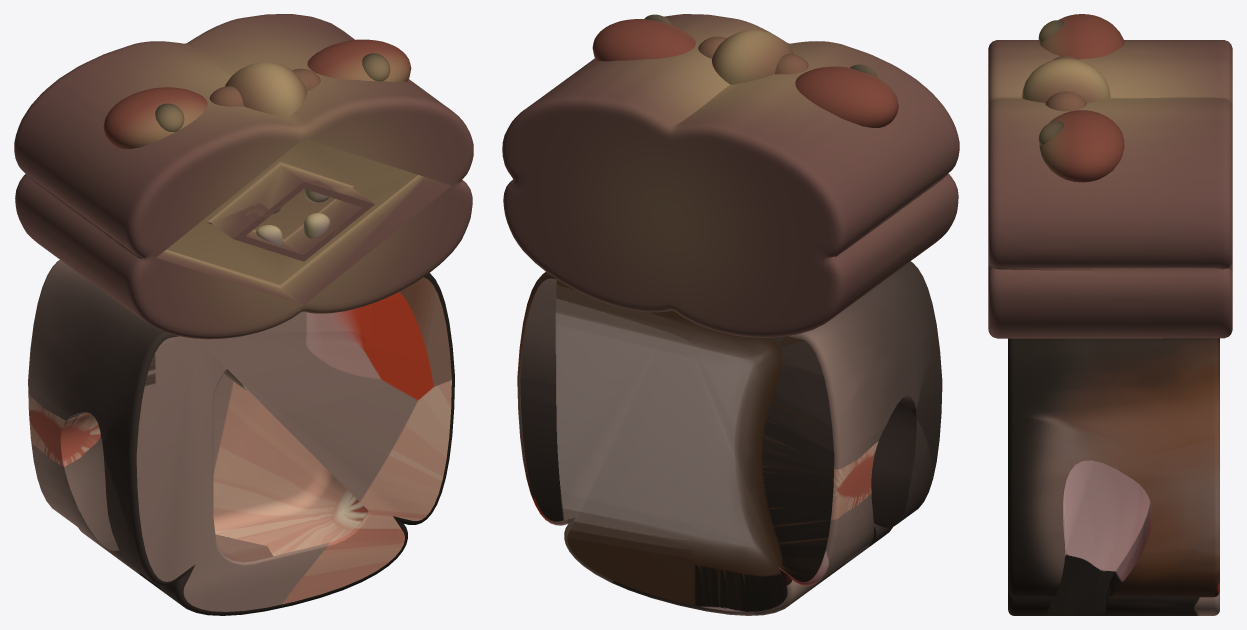
3 renders of one model, left to right at view 1: azimuth 30°, elevation 25°; view 2: azimuth 150°, elevation 25°; view 3: azimuth 270°, elevation 25°, orthographic.
Parts seen in each view (by area): view 1: 身体, 头, 眼睛, 鼻子; view 2: 身体, 头, 眼睛, 鼻子; view 3: 头, 身体, 眼睛, 鼻子.
Boxes of the visible parts, x1=… form: 身体: x1=28, y1=260, x2=454, y2=615; 头: x1=14, y1=14, x2=473, y2=339; 眼睛: x1=103, y1=39, x2=411, y2=149; 鼻子: x1=209, y1=62, x2=320, y2=116; 身体: x1=517, y1=261, x2=942, y2=615; 头: x1=502, y1=14, x2=959, y2=337; 眼睛: x1=592, y1=14, x2=898, y2=127; 鼻子: x1=698, y1=30, x2=808, y2=84; 头: x1=988, y1=40, x2=1232, y2=338; 身体: x1=1008, y1=338, x2=1219, y2=615; 眼睛: x1=1038, y1=14, x2=1124, y2=182; 鼻子: x1=1022, y1=56, x2=1110, y2=111.
Bounding box in the file's own units: 264 × 380 × 161.
